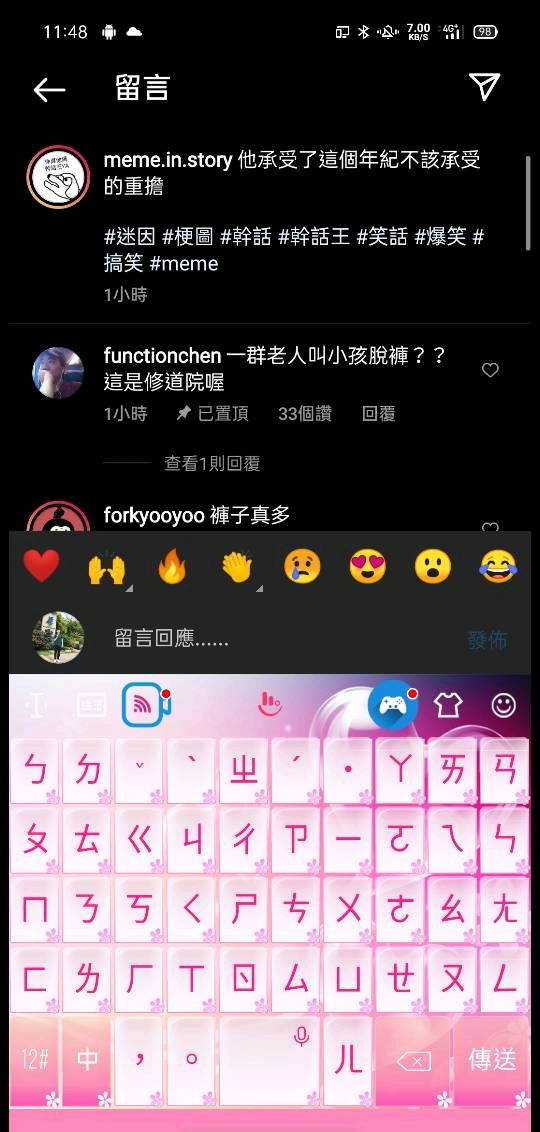back: (21, 69, 78, 117)
